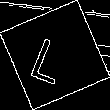L_N: (31, 26, 79, 84)
